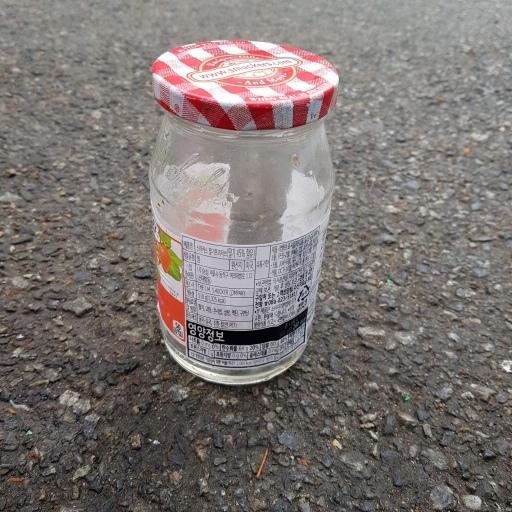Glass_5: (141, 34, 347, 385)
